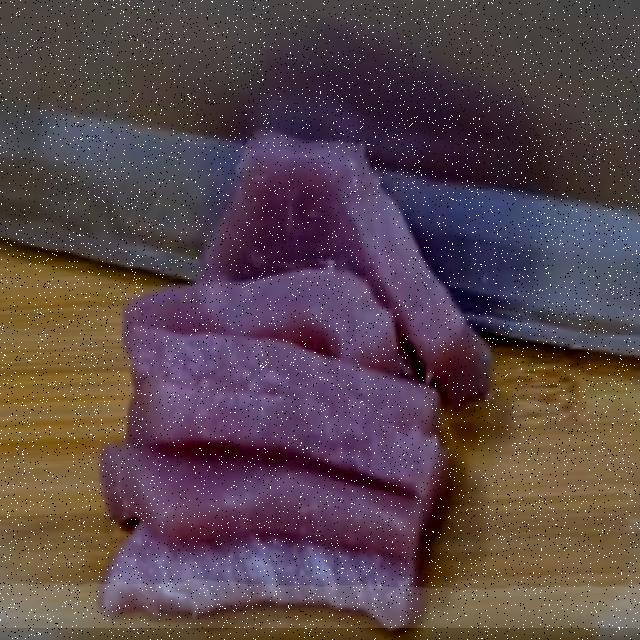pork: (73, 428, 444, 626), (134, 318, 461, 482), (226, 119, 467, 320), (115, 273, 413, 359)
